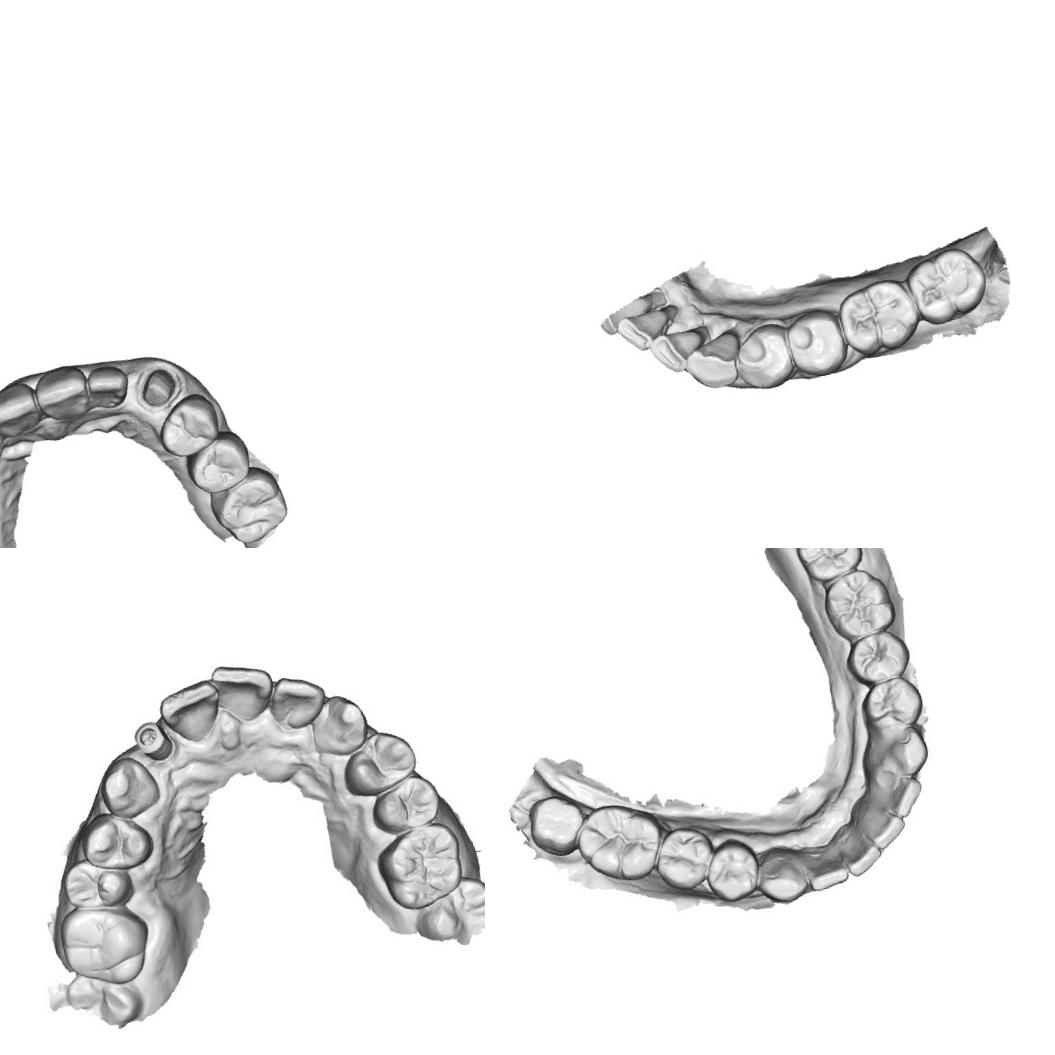canine: (680, 326, 746, 396), (306, 694, 371, 761), (869, 720, 937, 784), (754, 840, 810, 910), (97, 754, 160, 812)
crown: (130, 360, 185, 415)
implant: (132, 720, 176, 767)
incisor: (210, 655, 276, 723), (30, 361, 95, 426), (860, 762, 928, 823), (161, 680, 221, 746), (612, 302, 680, 356), (268, 668, 327, 730), (647, 326, 712, 376), (0, 378, 45, 442), (803, 844, 851, 898), (84, 360, 133, 412), (855, 799, 904, 851), (837, 822, 883, 877)
molar: (370, 815, 478, 917), (50, 899, 158, 996), (566, 795, 668, 890), (901, 242, 993, 330), (833, 272, 922, 362), (203, 460, 293, 548), (816, 562, 902, 644), (522, 790, 586, 855), (793, 548, 866, 588)
premolar: (180, 426, 255, 498), (151, 389, 224, 461), (728, 319, 797, 395), (782, 305, 850, 379), (842, 626, 918, 690), (346, 730, 418, 794), (59, 852, 132, 914), (78, 809, 150, 871), (698, 838, 760, 902), (373, 778, 440, 830), (654, 826, 712, 885), (861, 674, 924, 728)
